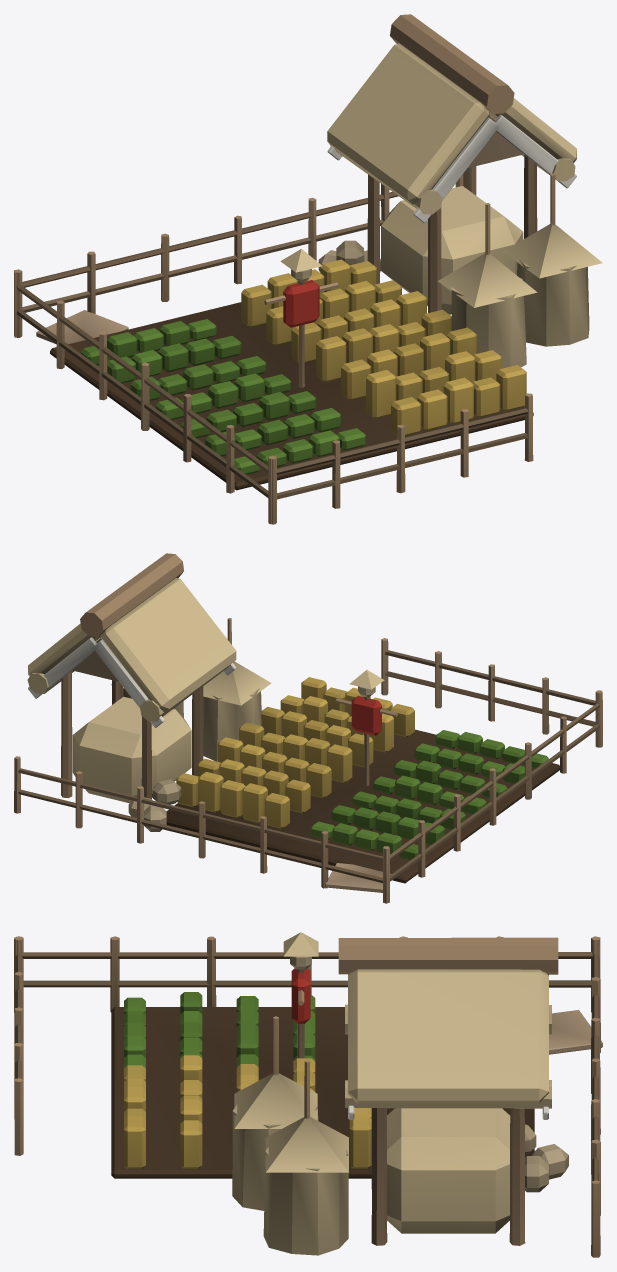
Rendered from bld_ferma.glb.
3 views of the same model, one above another, from view 1: azimuth 30°, elevation 25°; view 2: azimuth 150°, elevation 25°; view 3: azimuth 270°, elevation 25° (orthographic). The views are drawn at different scales.
Visible parts, largest first — view 1: ferma; view 2: ferma; view 3: ferma.
Boxes of the visible parts, x1,y1,x2,y2 form: ferma: [14, 14, 602, 524]; ferma: [14, 553, 602, 903]; ferma: [14, 932, 602, 1257].
Bounding box in the file's own units: 1.91 × 0.9737 × 1.88.
